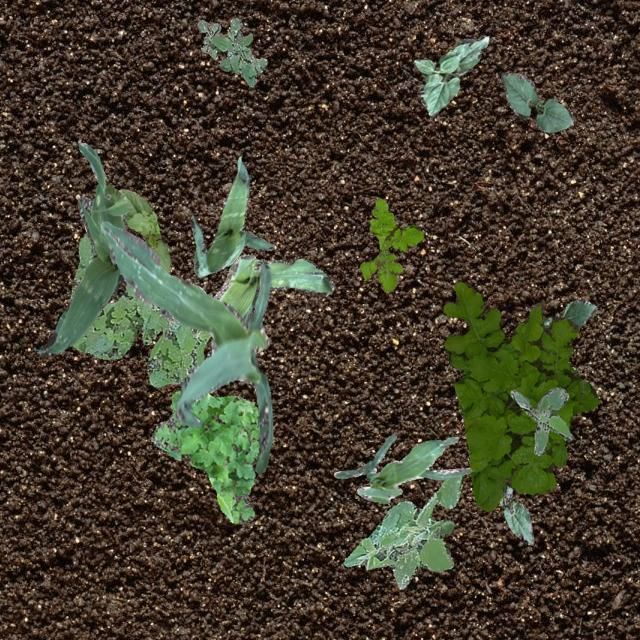crop: (98, 220, 272, 472), (32, 140, 126, 356), (190, 156, 274, 276), (332, 432, 472, 502), (212, 254, 334, 324), (412, 34, 488, 114), (116, 188, 170, 274), (500, 72, 572, 132), (498, 484, 534, 544), (542, 298, 596, 328)
weed: (442, 280, 598, 510), (68, 232, 210, 386), (150, 390, 260, 522), (343, 474, 461, 588), (360, 198, 422, 292), (196, 18, 266, 86), (509, 386, 572, 454)
